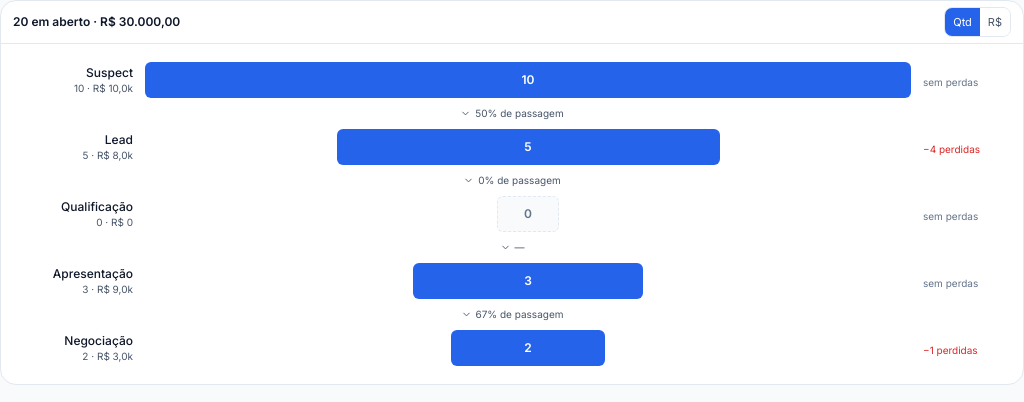
Test: FunilOportunidades — o painel da fase › clicar de novo na mesma faixa fecha o painel
Click the button with aria-label "Ver oportunidades em Negociação". click: (512, 348)
box: [13,324,1011,372]
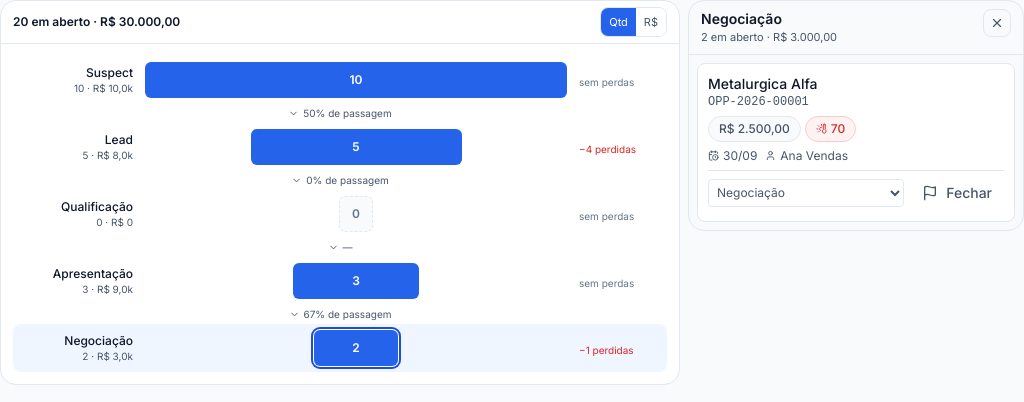
Expected: the text "OPP-2026-00001" is shown, [708,94,809,108]
Click the button with aria-label "Ver oportunidades em Negociação". click: (340, 348)
box: [13,324,667,372]
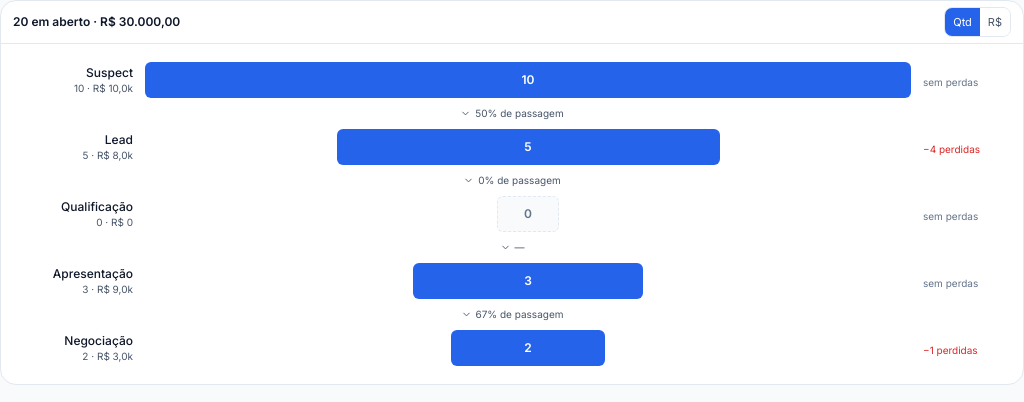
Expected: the button "OPP-2026-00001" is gone
